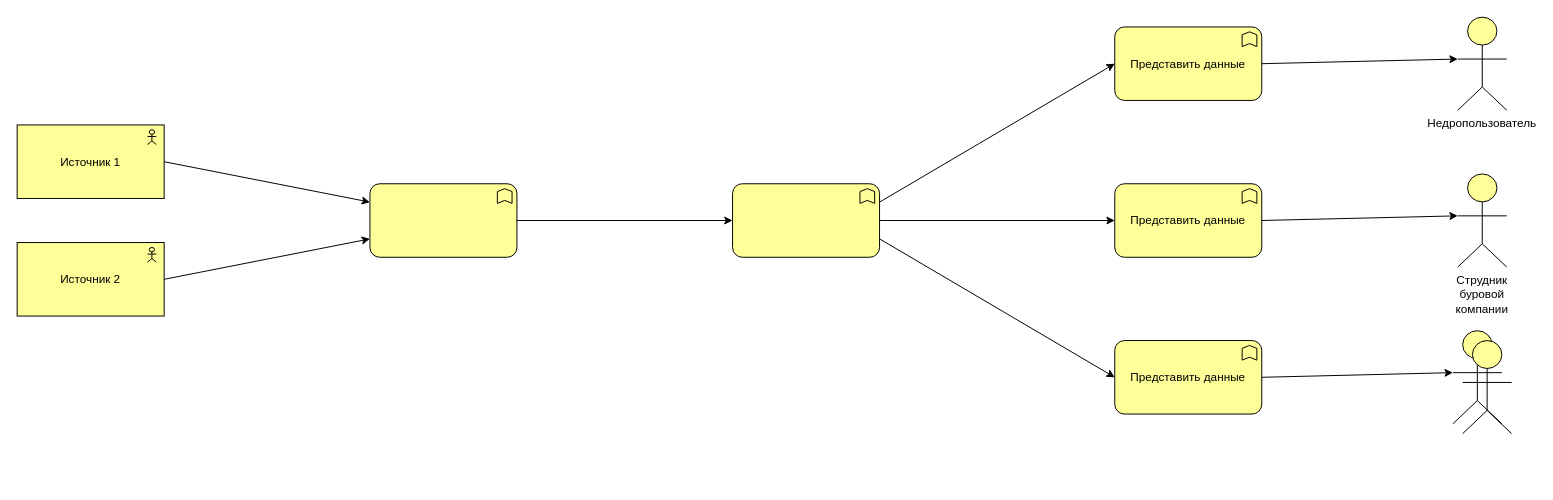
Some shapes in this 1553 by 500 pixel diagram are drawn without their labels. The shapes that lost their labels are listed below. From the top down, each one's centre as x and y in pixels, then its label:
At (x=443, y=220): "Получить данные".
At (x=806, y=220): "Записать данные".
At (x=1487, y=387): "Представители сервисных подрядчиков".
